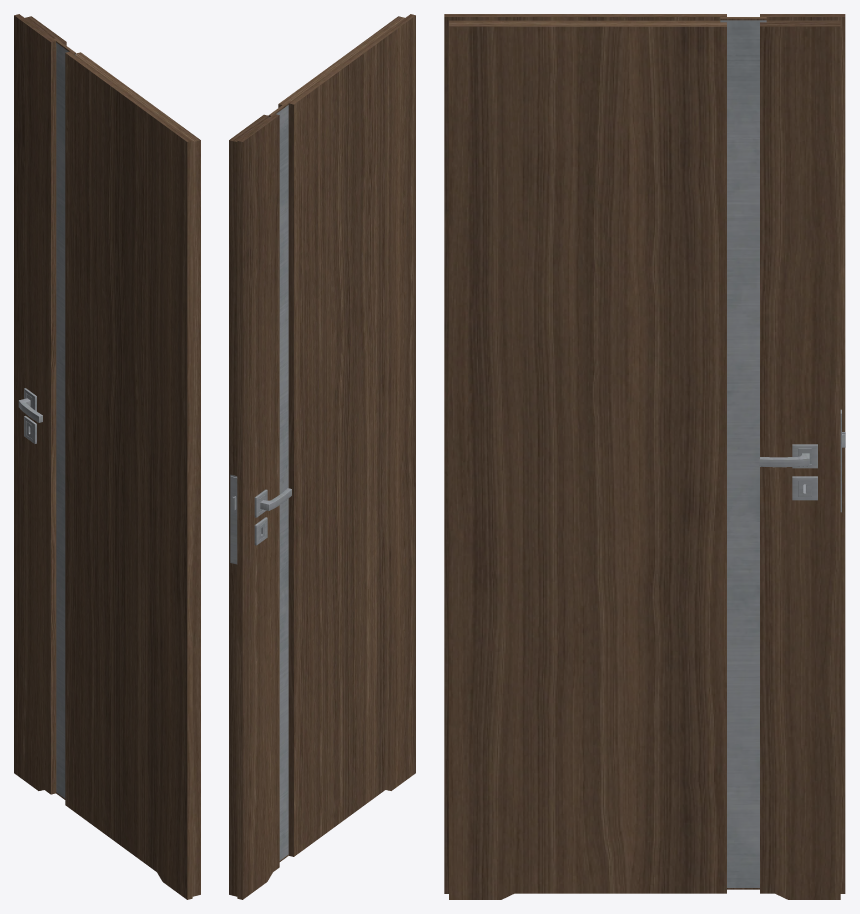
File: bathroom_door.glb
3 renders of one model, left to right at view 1: azimuth 30°, elevation 25°; view 2: azimuth 150°, elevation 25°; view 3: azimuth 270°, elevation 25°, orthographic. The views are drawn at different scales.
Parts seen in each view (by area): view 1: Door; view 2: Door; view 3: Door.
Part boxes in pixels (<box>): Door: <box>14,14,200,899</box>; Door: <box>229,14,415,899</box>; Door: <box>444,14,845,899</box>.
Size of the model in its own units: 0.1169 by 2.04 by 0.8457.
2 materials, 2 textured.
